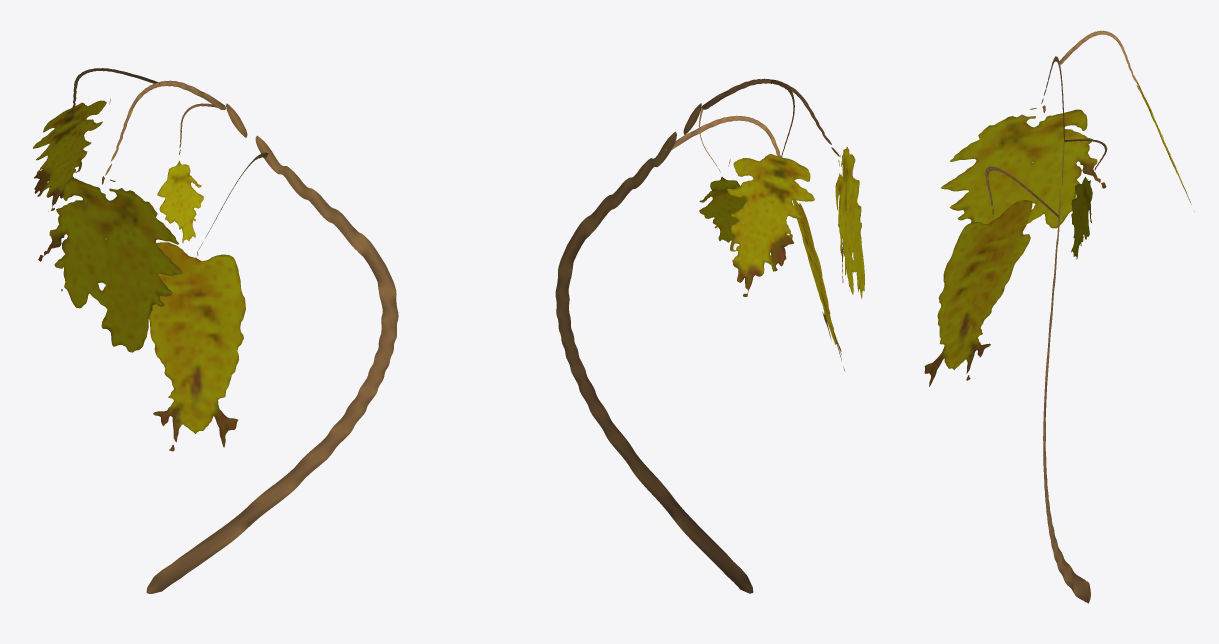
Rendered from Spin Reef Flower A2.fbx.
3 renders of one model, left to right at view 1: azimuth 30°, elevation 25°; view 2: azimuth 150°, elevation 25°; view 3: azimuth 270°, elevation 25°, orthographic. The views are drawn at different scales.
Parts seen in each view (by area): view 1: Spin Reef Flower A2; view 2: Spin Reef Flower A2; view 3: Spin Reef Flower A2.
Part boxes in pixels (x1,y1,x2,y2): Spin Reef Flower A2: (33,68,398,593); Spin Reef Flower A2: (555,78,864,593); Spin Reef Flower A2: (924,30,1194,603).
Bounding box in the file's own units: 95.49 × 138 × 61.73.
